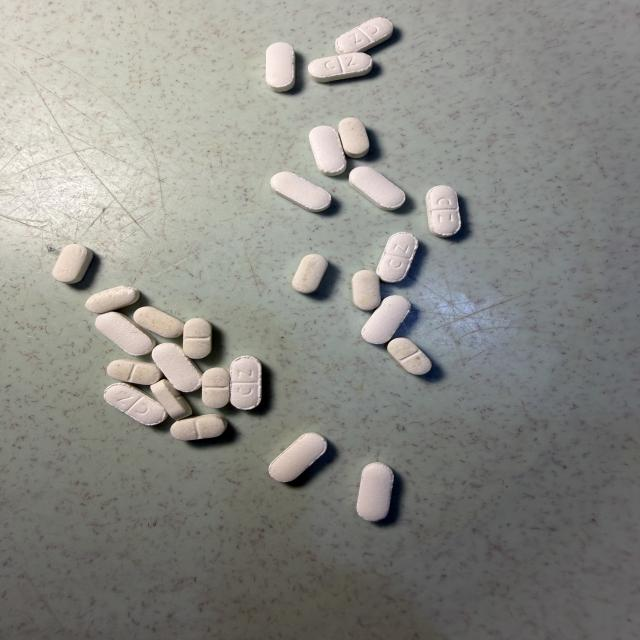pill: (269, 433, 327, 482), (104, 383, 167, 425), (95, 312, 155, 355), (349, 167, 405, 210), (152, 343, 201, 392), (271, 172, 331, 212), (362, 296, 411, 343), (377, 232, 418, 283), (357, 463, 393, 521), (336, 17, 393, 53), (308, 53, 372, 82), (309, 126, 346, 176), (426, 186, 461, 237), (230, 356, 261, 409), (151, 380, 192, 419), (388, 338, 431, 375), (53, 244, 93, 283), (134, 307, 184, 337), (171, 414, 227, 440), (86, 286, 139, 313), (266, 43, 295, 91), (107, 359, 162, 384), (293, 254, 328, 293), (338, 117, 369, 158), (183, 318, 212, 359), (202, 368, 230, 408), (352, 270, 380, 310)
